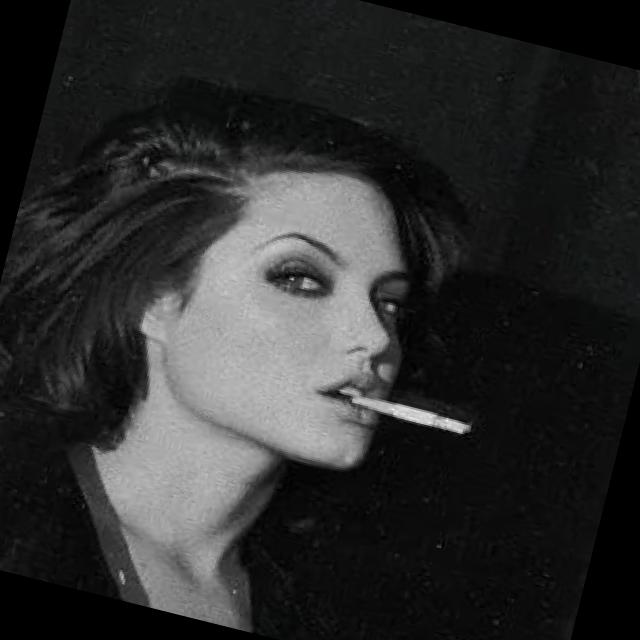cigarette: (342, 386, 476, 452)
